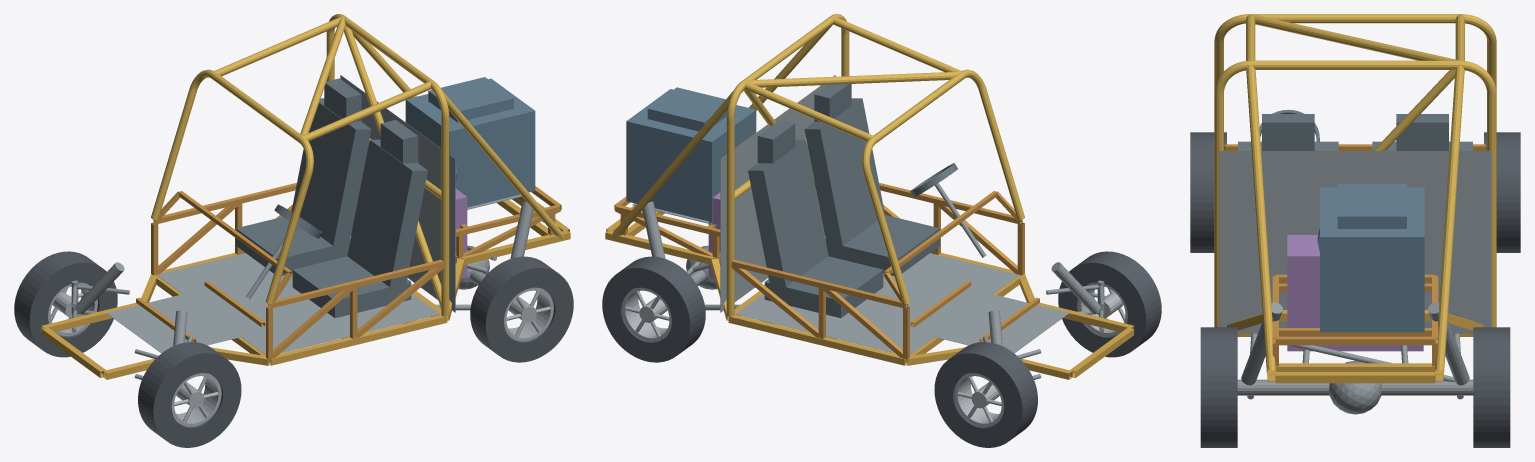
File: buggy.glb
The picture shows the model from 3 angles, left to right: view 1: azimuth 30°, elevation 25°; view 2: azimuth 150°, elevation 25°; view 3: azimuth 270°, elevation 25°; orthographic projection. The views are drawn at different scales.
Visible parts, largest first — view 1: Engine_clearance, Seat_back_-1, Seat_back_1, Tyre_2550_-1, Tyre_350_-1, Tyre_350_1, Floor_left, Firewall, Floor_right, D02, Foot_floor, Seat_base_-1 (+28 smaller); view 2: Engine_clearance, Seat_back_1, Seat_back_-1, Tyre_2550_1, Tyre_350_1, Tyre_350_-1, Firewall, Floor_right, Floor_left, D02, Foot_floor, D01 (+25 smaller); view 3: Firewall, Engine_clearance, D01, Tyre_2550_-1, Tyre_2550_1, TRANSMISSION_RESERVED, D02, Engine_fuel_tank, Tyre_350_-1, Tyre_350_1, D04L, D04R (+17 smaller).
Part boxes in pixels (x1,y1,x2,y2): Engine_clearance: (405,78,535,207); Seat_back_-1: (347,139,427,292); Seat_back_1: (291,98,371,245); Tyre_2550_-1: (470,256,573,362); Tyre_350_-1: (138,342,241,447); Tyre_350_1: (14,251,117,357); Floor_left: (212,294,440,354); Firewall: (340,75,455,312); Floor_right: (156,253,300,315); D02: (151,69,313,304); Foot_floor: (106,294,240,353); Seat_base_-1: (292,256,411,318); Engine_clearance: (626,89,756,221); Seat_back_1: (748,139,828,292); Seat_back_-1: (804,98,884,249); Tyre_2550_1: (602,256,705,362); Tyre_350_1: (934,342,1037,447); Tyre_350_-1: (1058,251,1161,357); Firewall: (720,75,835,312); Floor_right: (735,294,963,354); Floor_left: (875,253,1019,315); D02: (862,69,1024,304); Foot_floor: (935,294,1069,353); D01: (726,14,849,316); Firewall: (1219,151,1491,333); Engine_clearance: (1320,187,1424,332); D01: (1214,60,1496,327); Tyre_2550_-1: (1200,327,1237,447); Tyre_2550_1: (1473,327,1510,447); TRANSMISSION_RESERVED: (1287,235,1423,351); D02: (1214,14,1496,92); Engine_fuel_tank: (1337,184,1406,228); Tyre_350_-1: (1190,132,1226,252); Tyre_350_1: (1484,132,1520,252); D04L: (1246,64,1276,373); D04R: (1434,64,1464,373).
Bounding box in the file's own units: 3.04 × 1.77 × 1.57.
